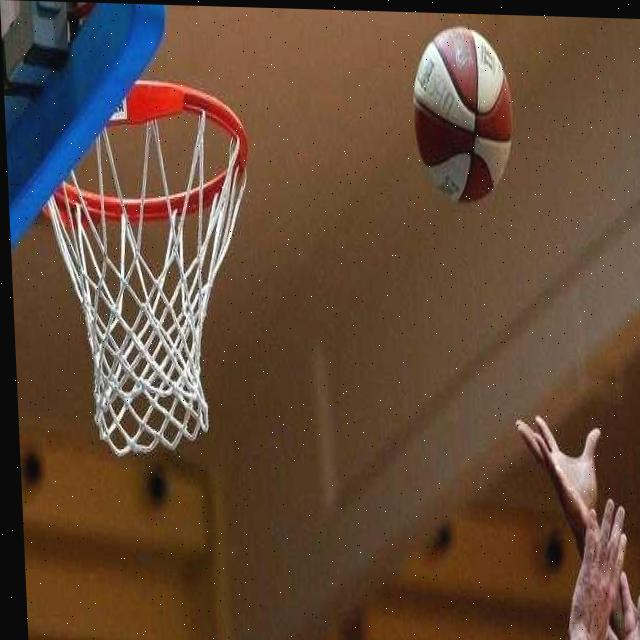Basketball: (411, 25, 518, 206)
